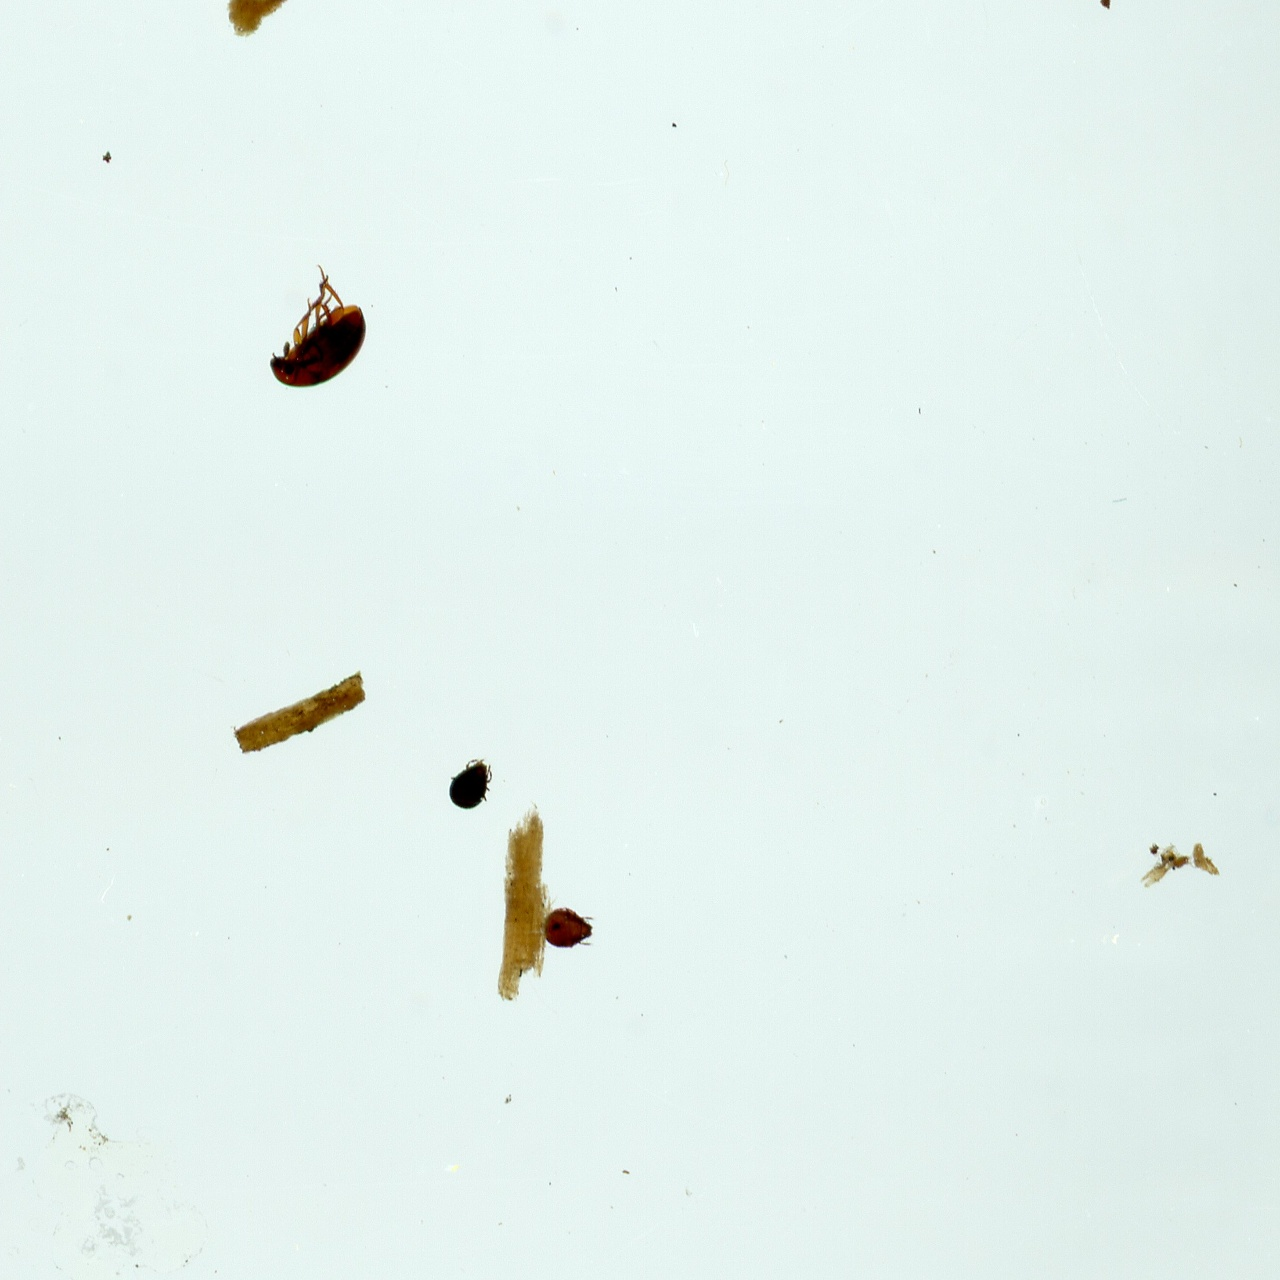arthropod: (256, 259, 382, 401), (442, 753, 496, 813), (540, 904, 599, 955)
